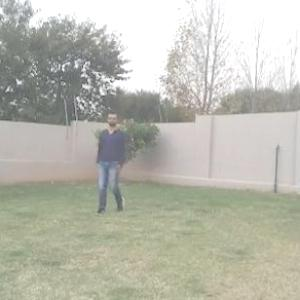follow: (98, 114, 122, 210)
